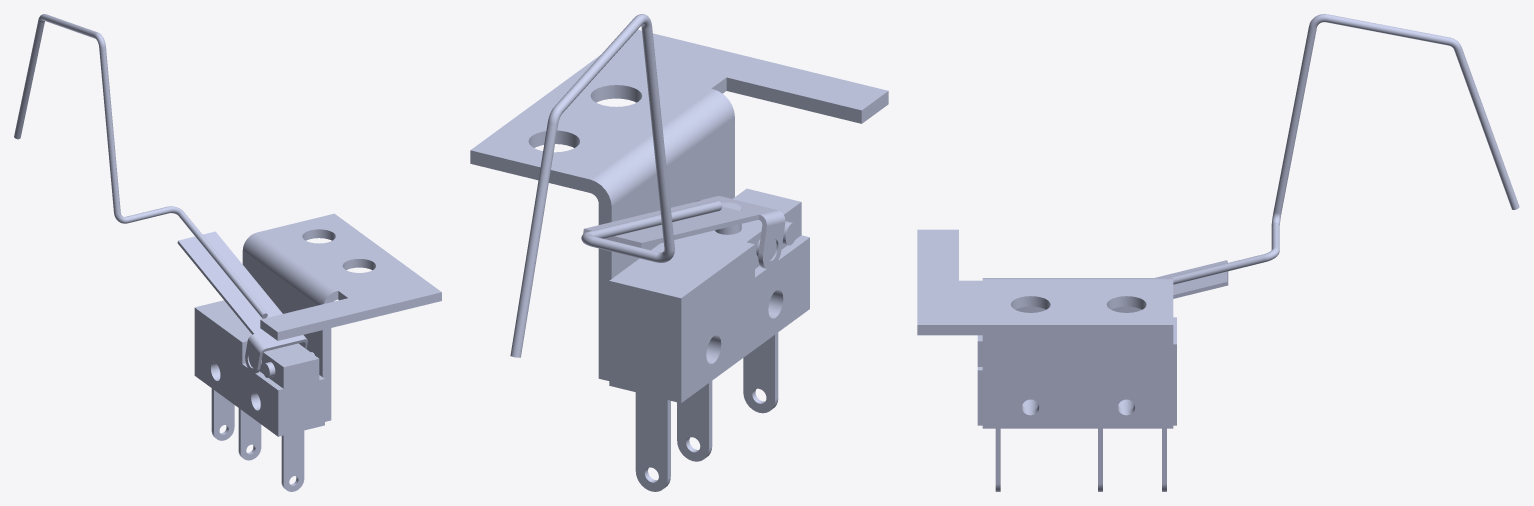
Rendered from Switch, Microswitch, Cherry, Rollover Lane (01-8719).fbx.
The picture shows the model from 3 angles, left to right: view 1: azimuth 30°, elevation 25°; view 2: azimuth 150°, elevation 25°; view 3: azimuth 270°, elevation 25°; orthographic projection. The views are drawn at different scales.
Parts seen in each view (by area): view 1: Mounting Bracket 01-8719, Cherry Switch, Switch Follower; view 2: Mounting Bracket 01-8719, Cherry Switch, Switch Follower; view 3: Mounting Bracket 01-8719, Switch Follower, Cherry Switch.
Part boxes in pixels (x1=…): Mounting Bracket 01-8719: x1=242, y1=213, x2=441, y2=421; Cherry Switch: x1=194, y1=300, x2=324, y2=491; Switch Follower: x1=14, y1=14, x2=307, y2=373; Mounting Bracket 01-8719: x1=470, y1=29, x2=888, y2=380; Cherry Switch: x1=609, y1=188, x2=809, y2=491; Switch Follower: x1=510, y1=14, x2=785, y2=357; Mounting Bracket 01-8719: x1=917, y1=229, x2=1173, y2=428; Switch Follower: x1=1155, y1=14, x2=1519, y2=298; Cherry Switch: x1=977, y1=317, x2=1176, y2=491.
Size of the model in its own units: 2.41 by 4.85 by 5.98.
